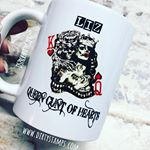cups: (1, 1, 137, 143)
